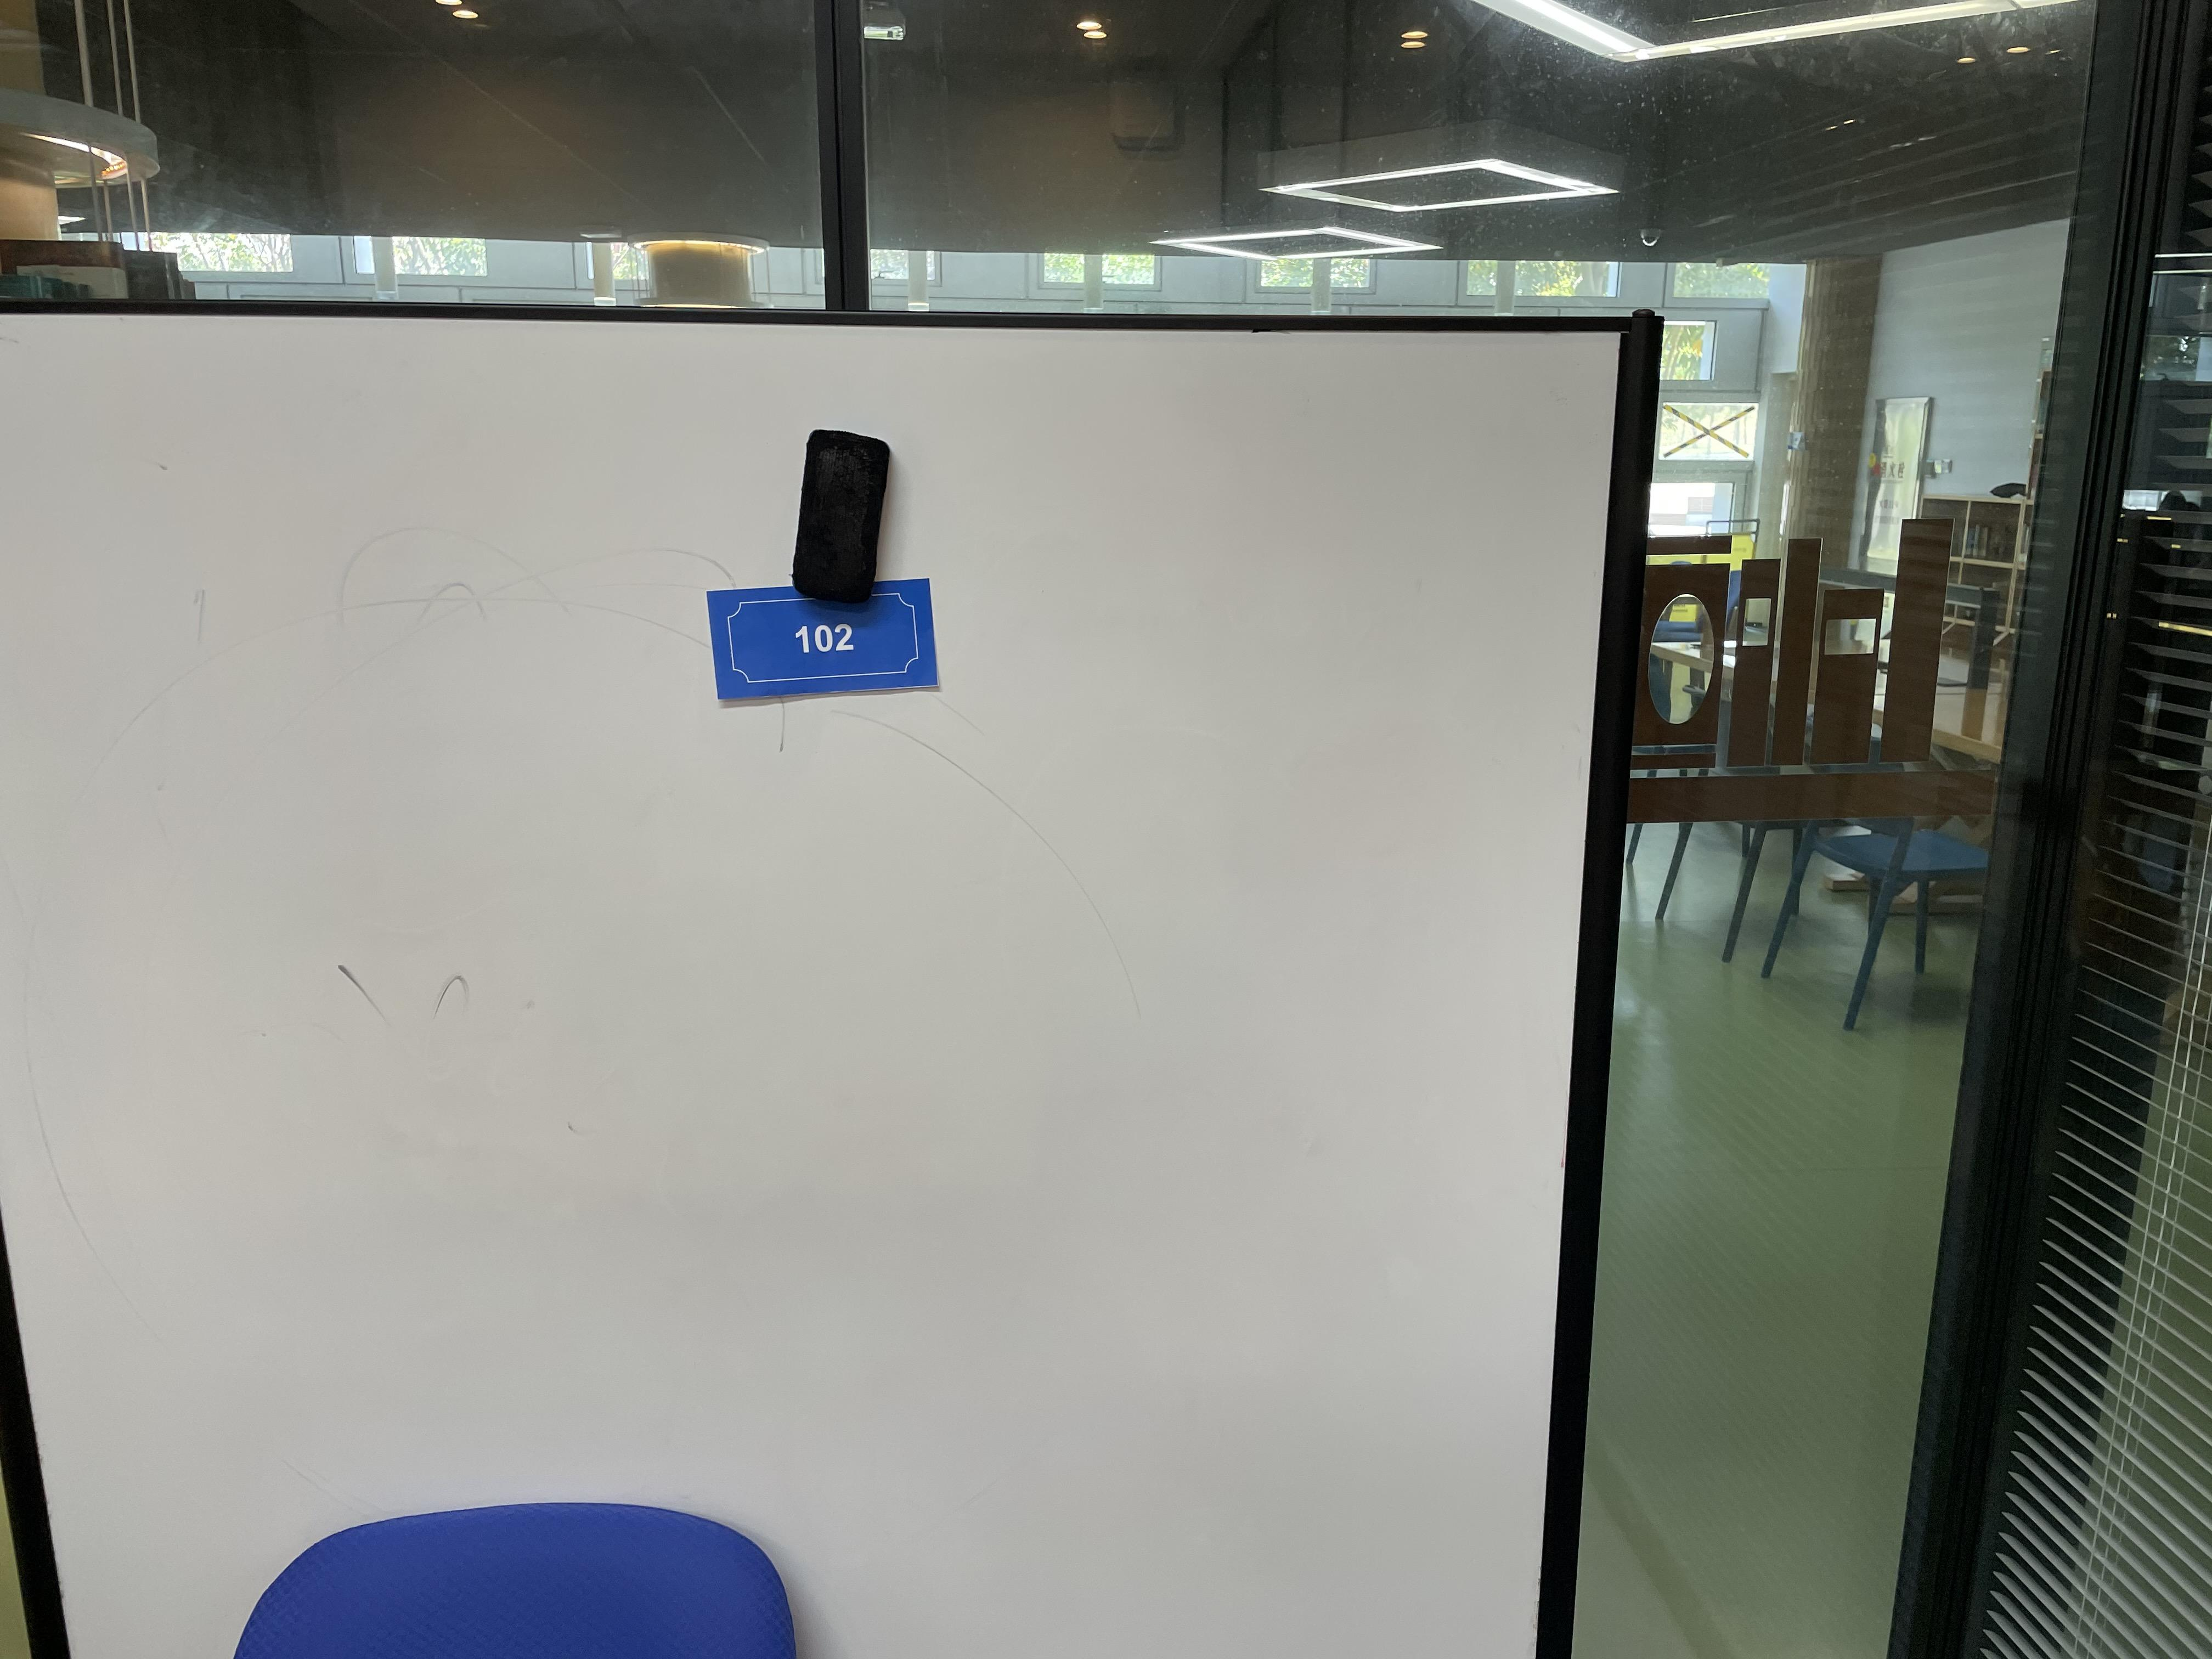Card: (702, 558, 942, 730)
